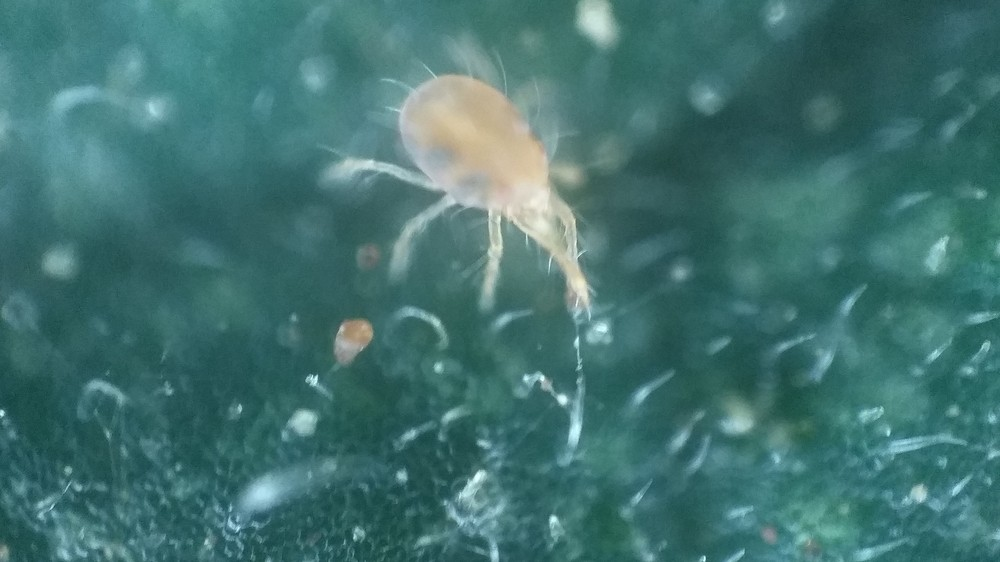Aracnido Rojo: (326, 38, 635, 343)
